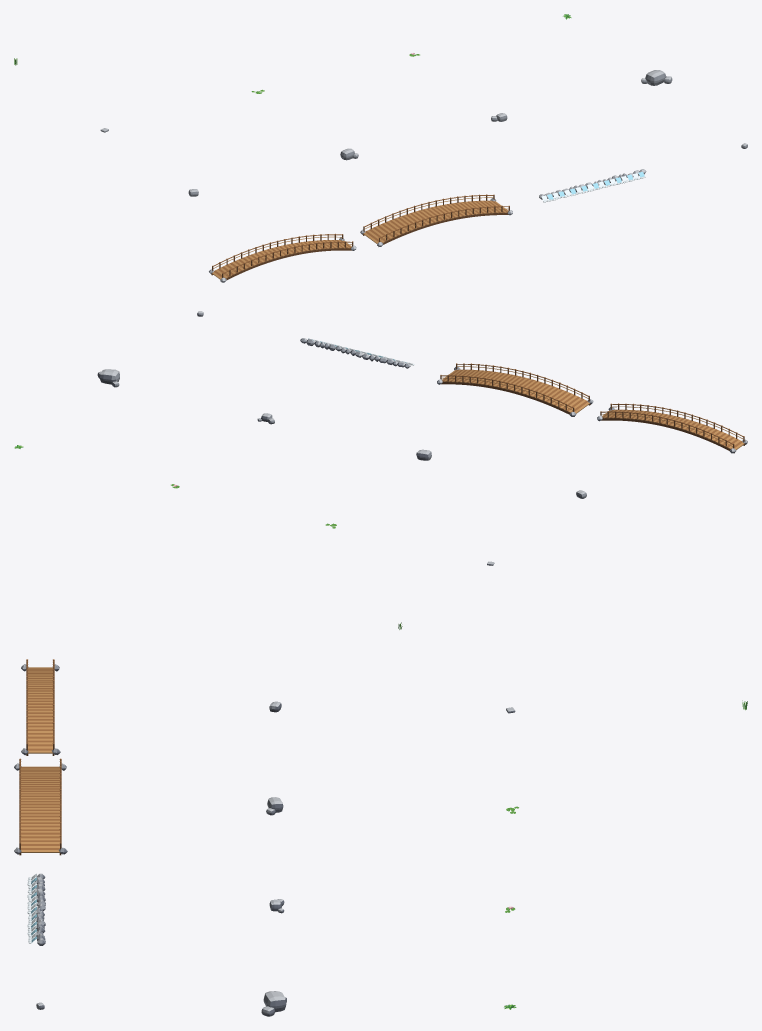
Rendered from StreamKit.glb.
The picture shows the model from 3 angles, top to bottom: view 1: azimuth 30°, elevation 25°; view 2: azimuth 150°, elevation 25°; view 3: azimuth 270°, elevation 25°; orthographic projection. The views are drawn at different scales.
Parts seen in each view (by area): view 1: BridgeRoad__Wood_Mid, BridgeRoad__Wood_Light, BridgePath__Wood_Mid, BridgePath__Wood_Light, BridgePath__Wood_Dark, BridgeRoad__Wood_Dark, Weir__Fall_White; view 2: BridgeRoad__Wood_Mid, BridgeRoad__Wood_Light, BridgePath__Wood_Mid, BridgePath__Wood_Light, BridgeRoad__Wood_Dark, BridgePath__Wood_Dark; view 3: BridgeRoad__Wood_Mid, BridgeRoad__Wood_Light, BridgePath__Wood_Mid, BridgePath__Wood_Light.
Part boxes in pixels (<box>): BridgeRoad__Wood_Mid: <box>363,194,509,242</box>; BridgeRoad__Wood_Light: <box>363,197,508,243</box>; BridgePath__Wood_Mid: <box>212,233,353,278</box>; BridgePath__Wood_Light: <box>212,236,352,279</box>; BridgePath__Wood_Dark: <box>211,234,353,279</box>; BridgeRoad__Wood_Dark: <box>363,195,509,244</box>; Weir__Fall_White: <box>541,173,645,202</box>; BridgeRoad__Wood_Mid: <box>440,363,589,412</box>; BridgeRoad__Wood_Light: <box>441,366,589,413</box>; BridgePath__Wood_Mid: <box>600,403,744,449</box>; BridgePath__Wood_Light: <box>601,406,744,449</box>; BridgeRoad__Wood_Dark: <box>440,364,590,416</box>; BridgePath__Wood_Dark: <box>600,404,745,453</box>; BridgeRoad__Wood_Mid: <box>19,758,61,849</box>; BridgeRoad__Wood_Light: <box>21,766,59,852</box>; BridgePath__Wood_Mid: <box>26,659,54,750</box>; BridgePath__Wood_Light: <box>28,667,52,753</box>.
Bounding box in the file's own units: 297 × 10.05 × 262.
